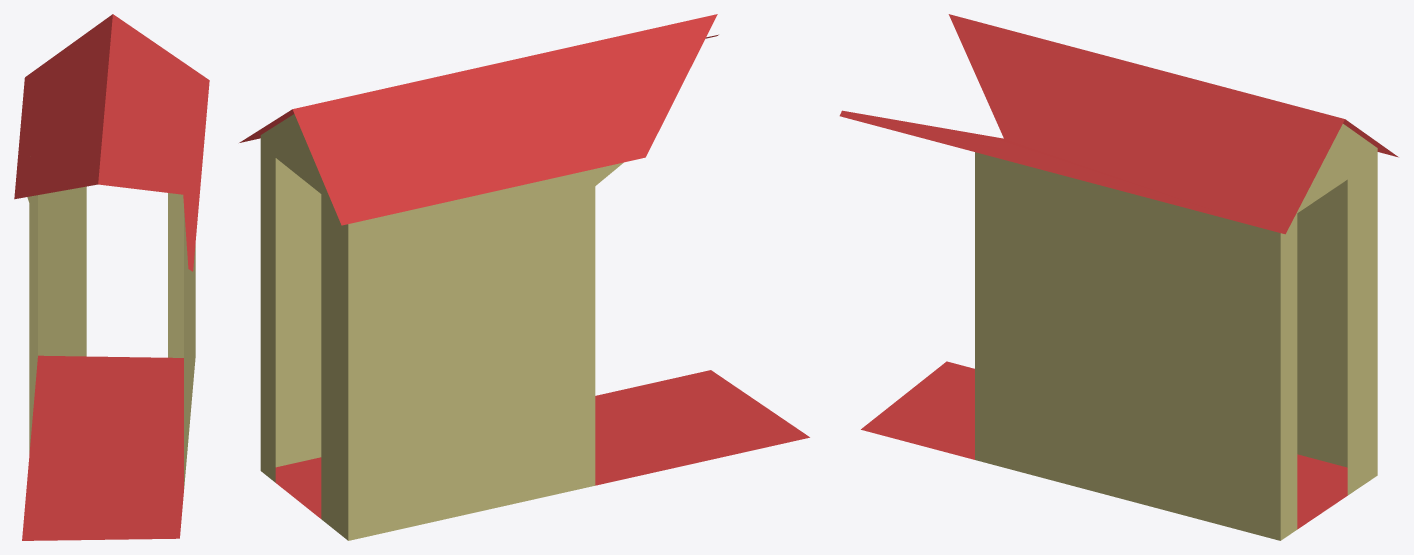
3 views of the same model, side by side, from view 1: azimuth 30°, elevation 25°; view 2: azimuth 150°, elevation 25°; view 3: azimuth 270°, elevation 25° (orthographic). The views are drawn at different scales.
Size of the model in its own units: 14.07 by 17.64 by 13.58.
